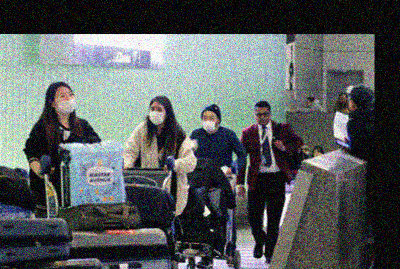with_mask: (54, 89, 76, 114), (148, 105, 166, 124), (202, 113, 217, 132)
without_mask: (256, 109, 270, 124), (339, 95, 348, 104)
